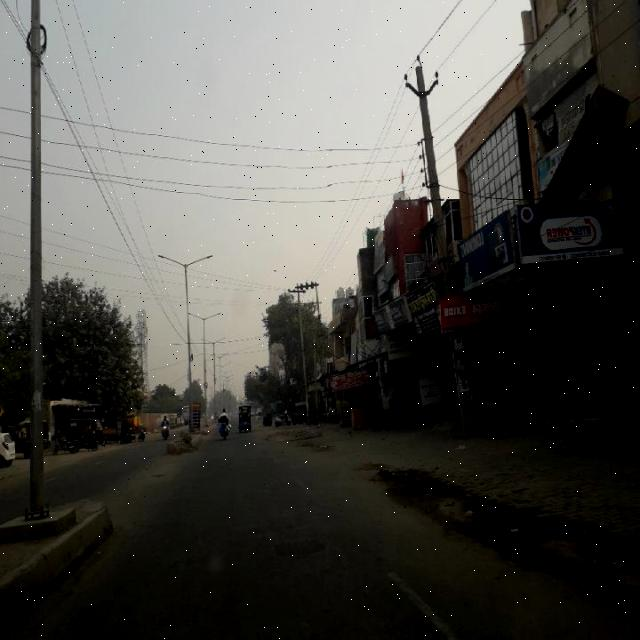D44: (388, 570, 454, 636), (289, 465, 322, 512)
